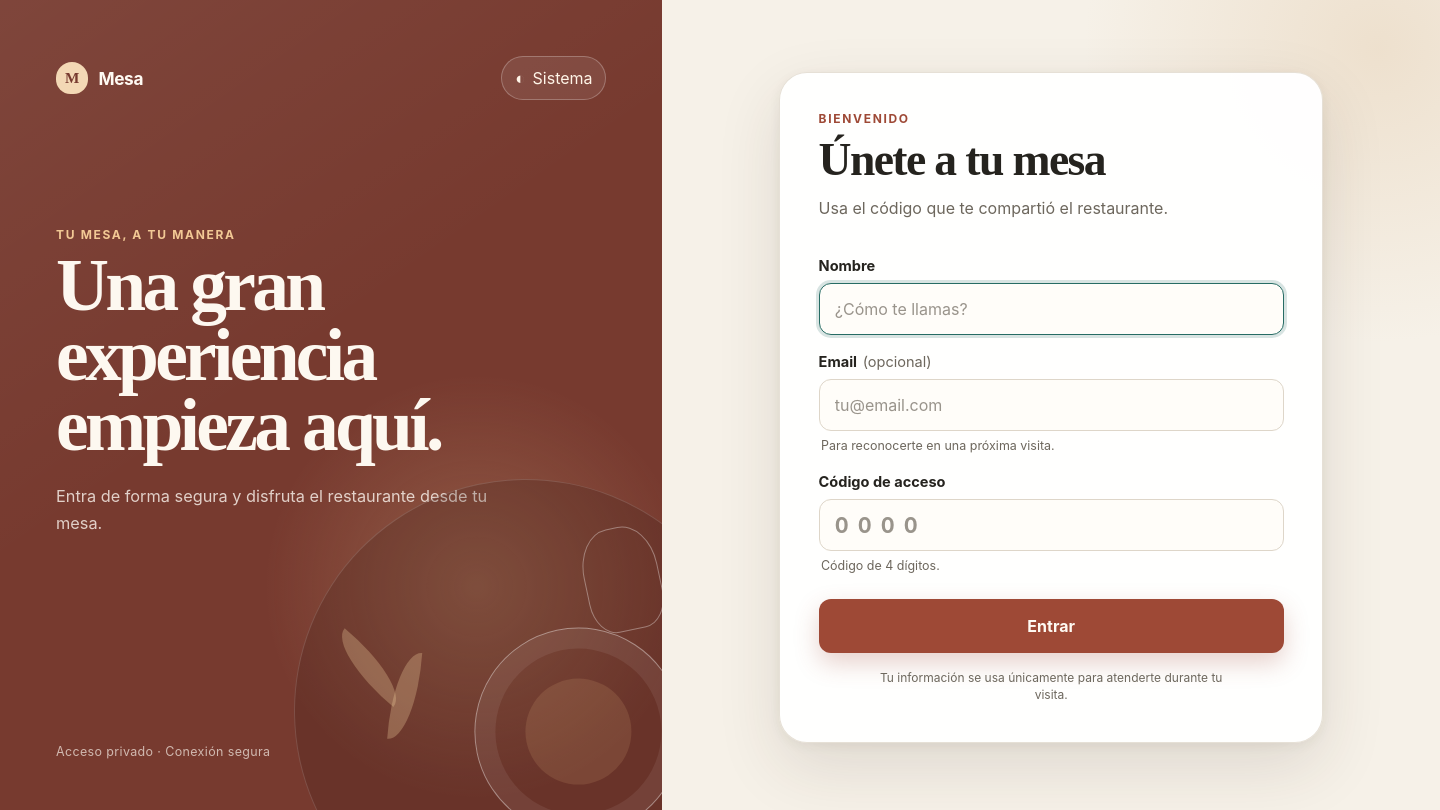
diner access › presents an invalid join without clearing entered values
The width and height of the screenshot is (1440, 810).
Type "Luis" into the field labelled "Nombre" at [1051, 309], box x1=819 y1=283 x2=1284 y2=335
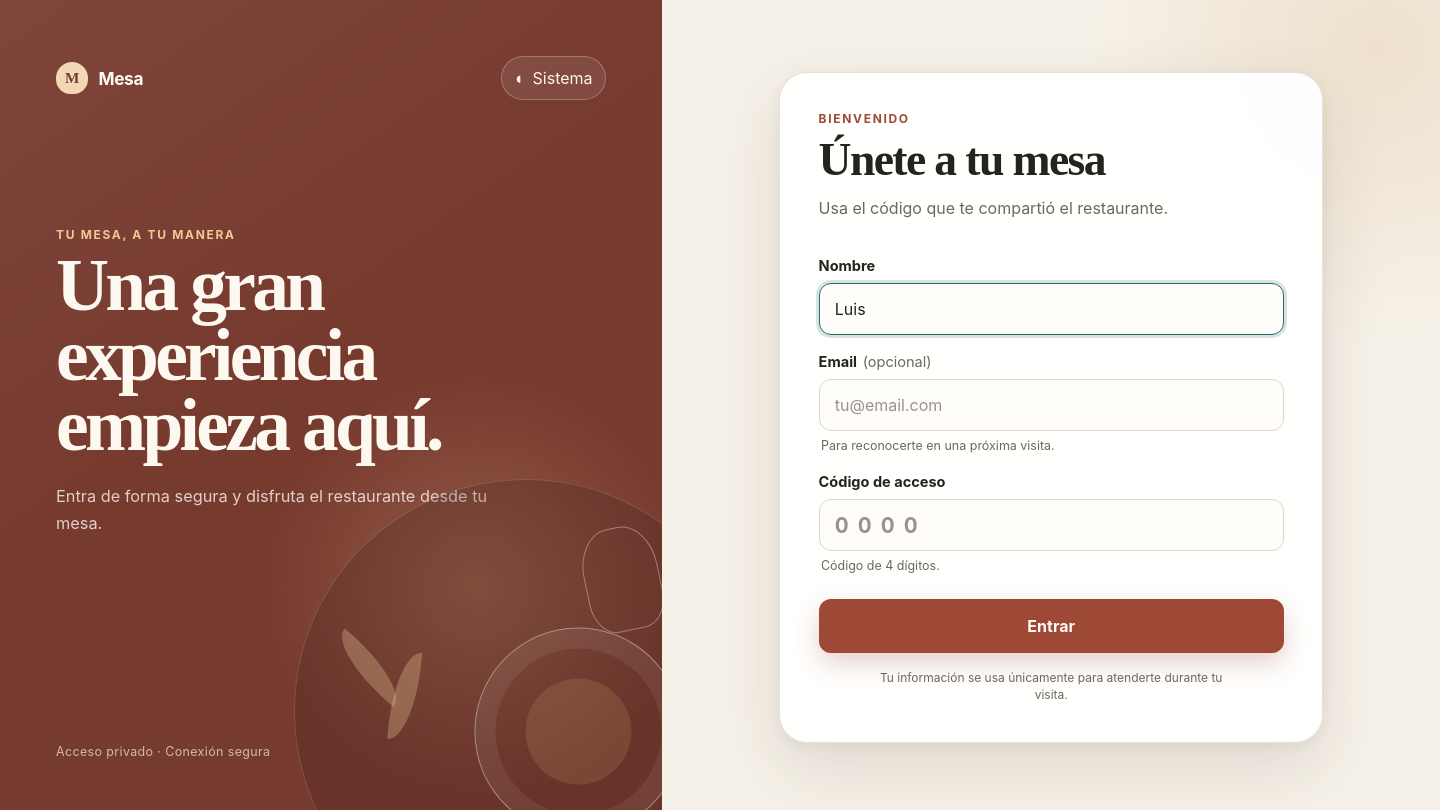
Type "9999" into the field labelled "Código de acceso" at [1051, 525], box x1=819 y1=499 x2=1284 y2=551
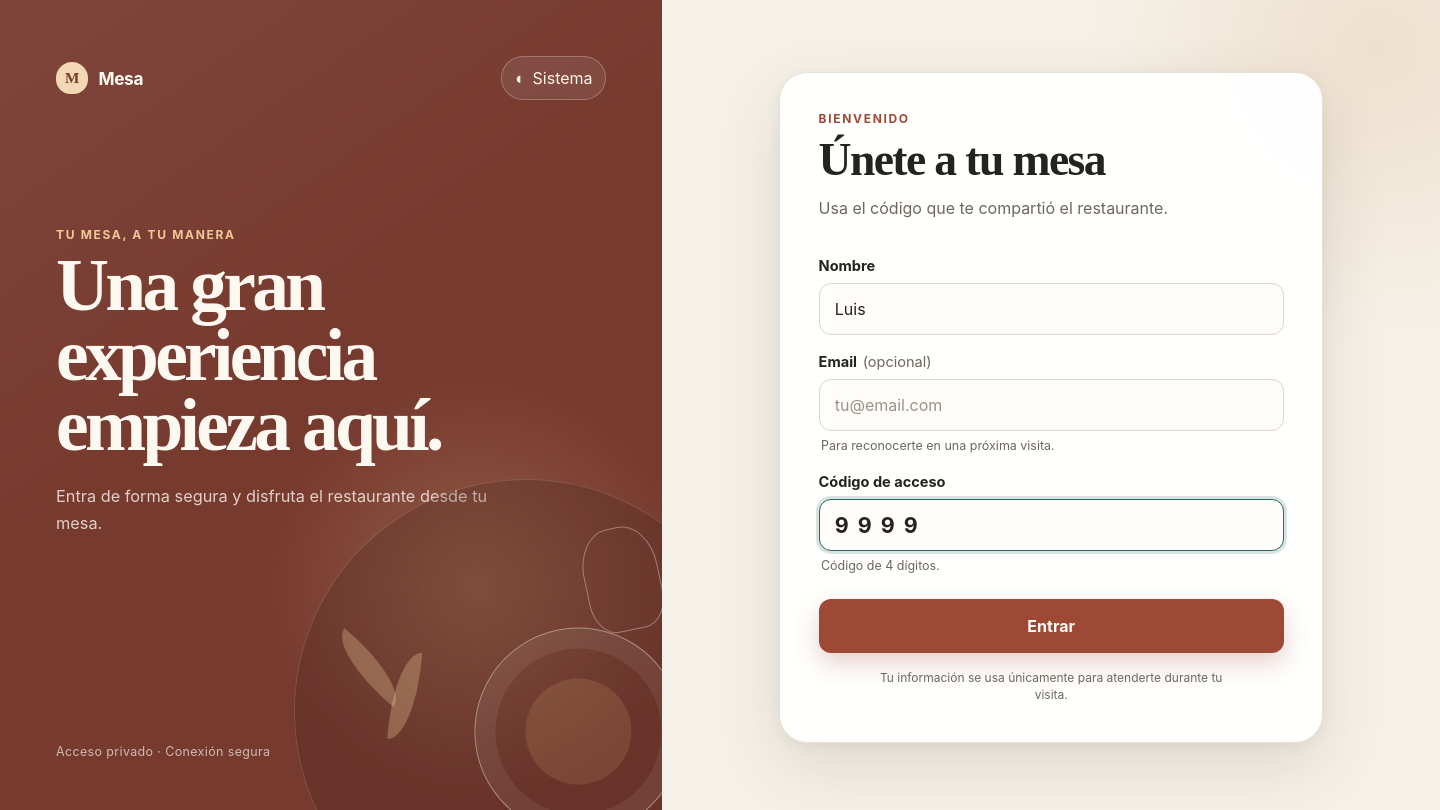
Click the button "Entrar" at [1051, 626], box x1=819 y1=598 x2=1284 y2=652
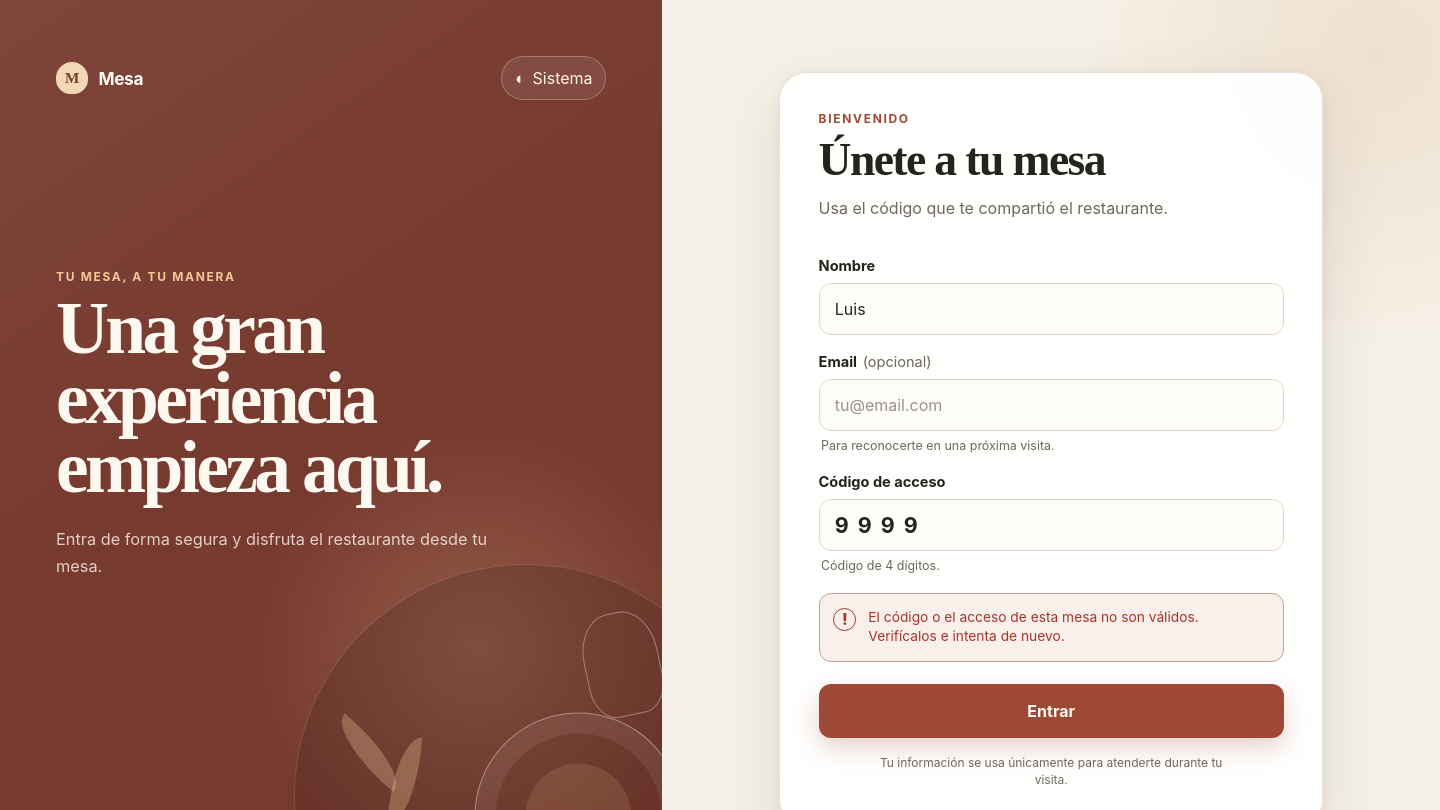
Result: the message shows "El código o el acceso de esta mesa no son válidos" at x1=868 y1=608 x2=1199 y2=644
